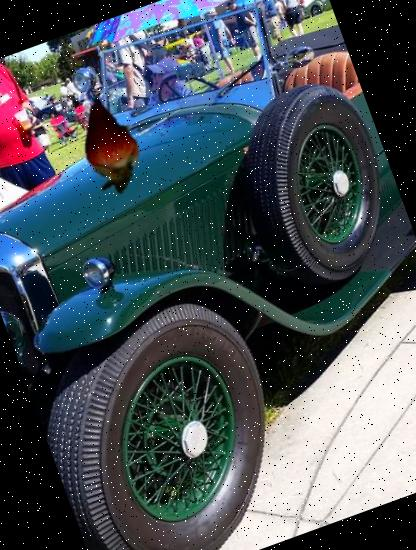Strawberry: (52, 94, 162, 203)
